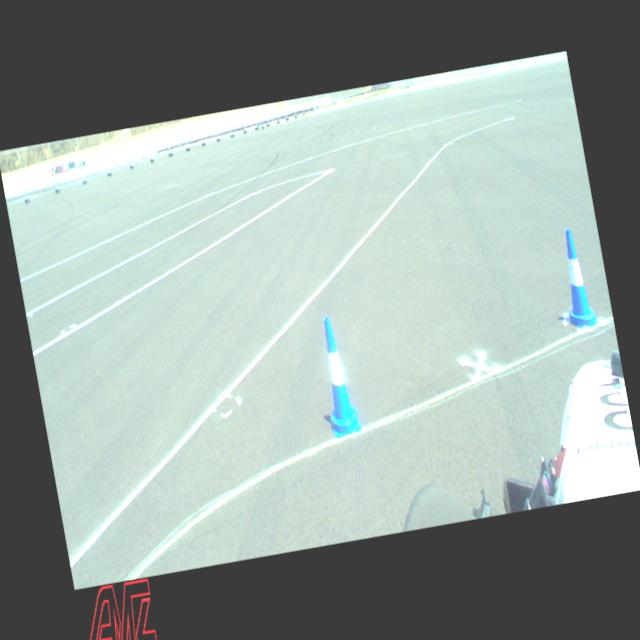blue_cone: (313, 316, 362, 440), (550, 226, 600, 330)
